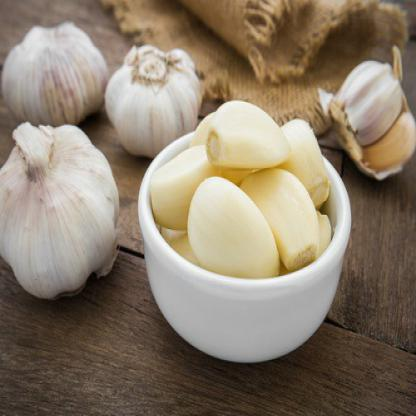garlic: (5, 131, 121, 303), (325, 60, 415, 192), (105, 42, 201, 152), (6, 25, 105, 126), (192, 178, 266, 295), (251, 183, 328, 271), (141, 138, 216, 214), (204, 97, 287, 159)
